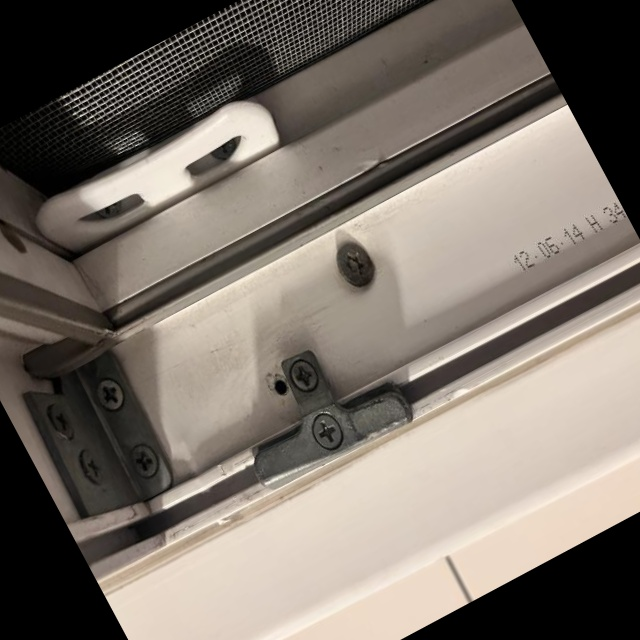phillips: (305, 407, 350, 456), (90, 374, 130, 416), (125, 440, 164, 482), (73, 445, 110, 489), (285, 355, 323, 397), (44, 400, 79, 443)
torx: (330, 236, 381, 293)
